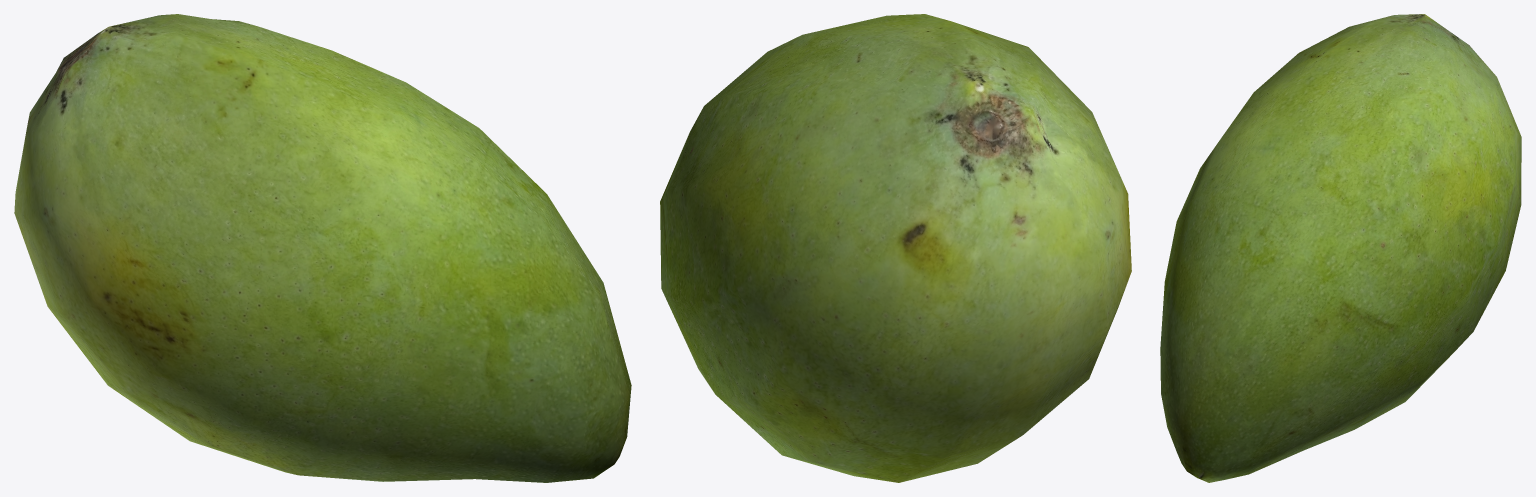
The model's file is A135_Mango_low.fbx.
3 renders of one model, left to right at view 1: azimuth 30°, elevation 25°; view 2: azimuth 150°, elevation 25°; view 3: azimuth 270°, elevation 25°, orthographic. The views are drawn at different scales.
Visible parts, largest first — view 1: A135_Mango_low; view 2: A135_Mango_low; view 3: A135_Mango_low.
Part boxes in pixels (x1=…): A135_Mango_low: x1=14, y1=14, x2=631, y2=482; A135_Mango_low: x1=660, y1=14, x2=1131, y2=482; A135_Mango_low: x1=1160, y1=14, x2=1521, y2=482.
Bounding box in the file's own units: 8.92 × 7.46 × 7.83.
1 material, 1 textured.
